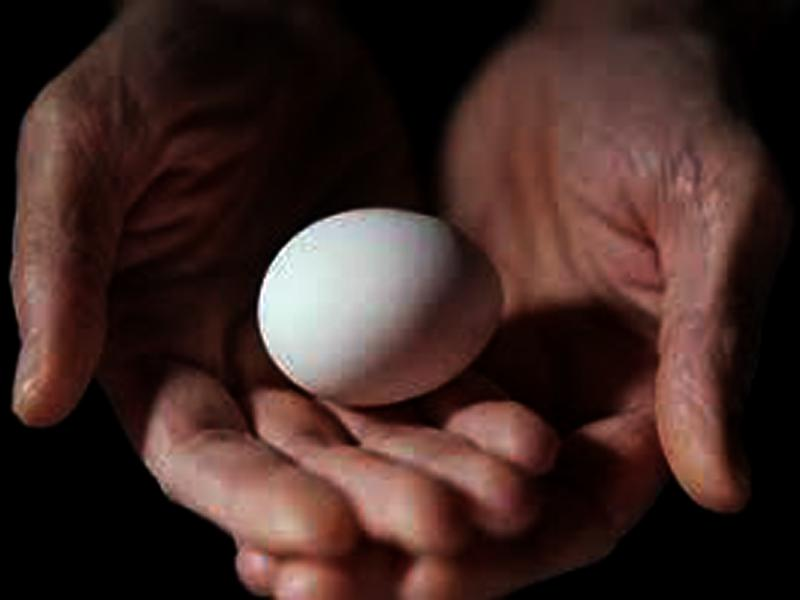Eggs: (256, 205, 500, 404)
